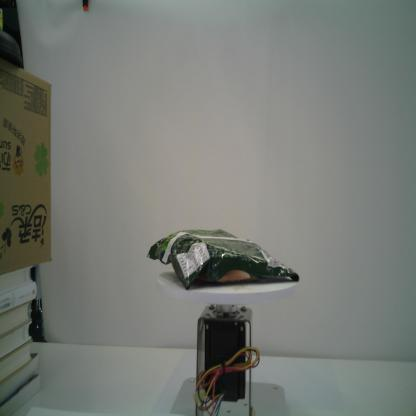Instant Noodles: (142, 224, 301, 290)
